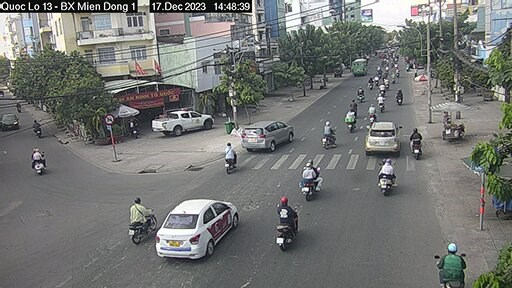car: (161, 193, 248, 265), (235, 123, 298, 153), (367, 118, 403, 158), (157, 110, 216, 133)
motorbike: (121, 192, 158, 246), (432, 233, 465, 288), (266, 196, 294, 245), (299, 160, 320, 199), (220, 140, 242, 173), (319, 115, 338, 150), (376, 157, 392, 194), (409, 125, 419, 160)
